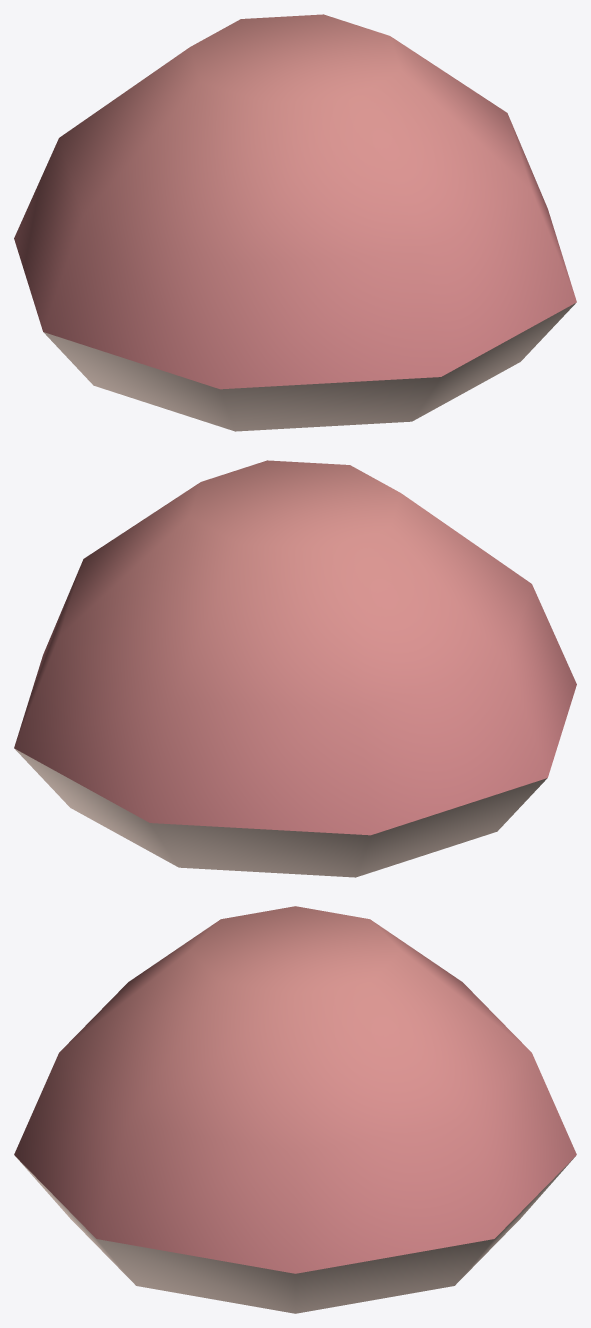
The model's file is mushroom-c.glb.
3 views of the same model, one above another, from view 1: azimuth 30°, elevation 25°; view 2: azimuth 150°, elevation 25°; view 3: azimuth 270°, elevation 25° (orthographic). The views are drawn at different scales.
Parts seen in each view (by area): view 1: mushroom-c; view 2: mushroom-c; view 3: mushroom-c.
Part boxes in pixels (x1,y1,x2,y2): mushroom-c: [14, 14, 576, 431]; mushroom-c: [14, 460, 576, 877]; mushroom-c: [14, 906, 576, 1313].
Size of the model in its own units: 0.2 by 0.105 by 0.2.
